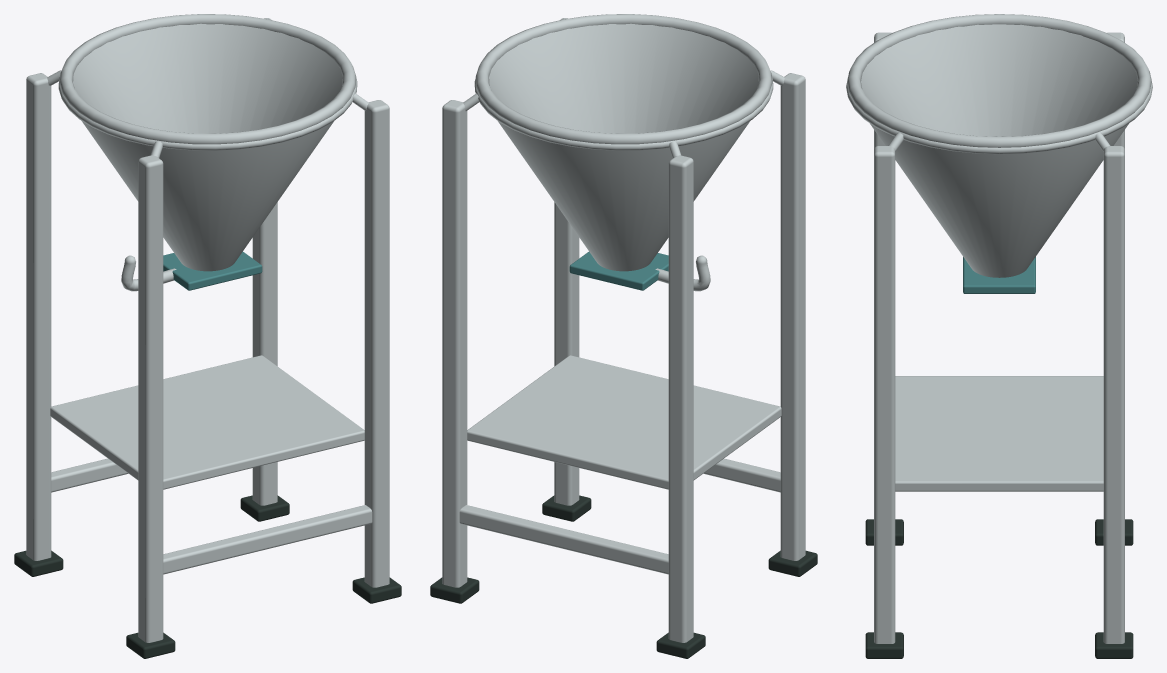
File: mushroom-farm-and-grow-rooms-bag-filling-hopper-7cc3808a__30808.glb
The picture shows the model from 3 angles, left to right: view 1: azimuth 30°, elevation 25°; view 2: azimuth 150°, elevation 25°; view 3: azimuth 270°, elevation 25°; orthographic projection. The views are drawn at different scales.
Visible parts, largest first — view 1: bag-filling-hopper; view 2: bag-filling-hopper; view 3: bag-filling-hopper.
Part boxes in pixels (x1,y1,x2,y2): bag-filling-hopper: [14, 14, 401, 658]; bag-filling-hopper: [430, 14, 817, 658]; bag-filling-hopper: [846, 14, 1152, 658].
Size of the model in its own units: 0.802 by 1.5 by 0.802.
